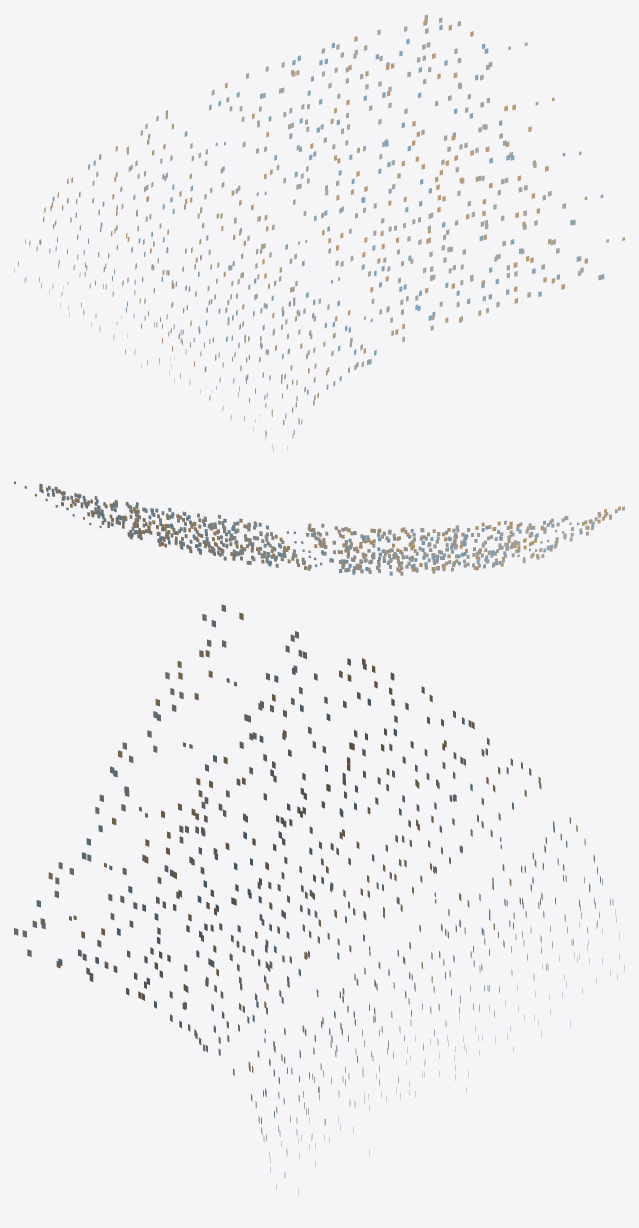
Rendered from UpperPhones3.obj.
3 renders of one model, top to bottom at view 1: azimuth 30°, elevation 25°; view 2: azimuth 150°, elevation 25°; view 3: azimuth 270°, elevation 25°, orthographic. The views are drawn at different scales.
Parts seen in each view (by area): view 1: UpperPhones3; view 2: UpperPhones3; view 3: UpperPhones3.
Part boxes in pixels (box(x1,y1,x2,y2)): UpperPhones3: box(14, 14, 624, 451); UpperPhones3: box(14, 481, 624, 575); UpperPhones3: box(14, 604, 624, 1194).
Bounding box in the file's own units: 62.33 × 16.38 × 39.54.
1 material, 1 textured.
